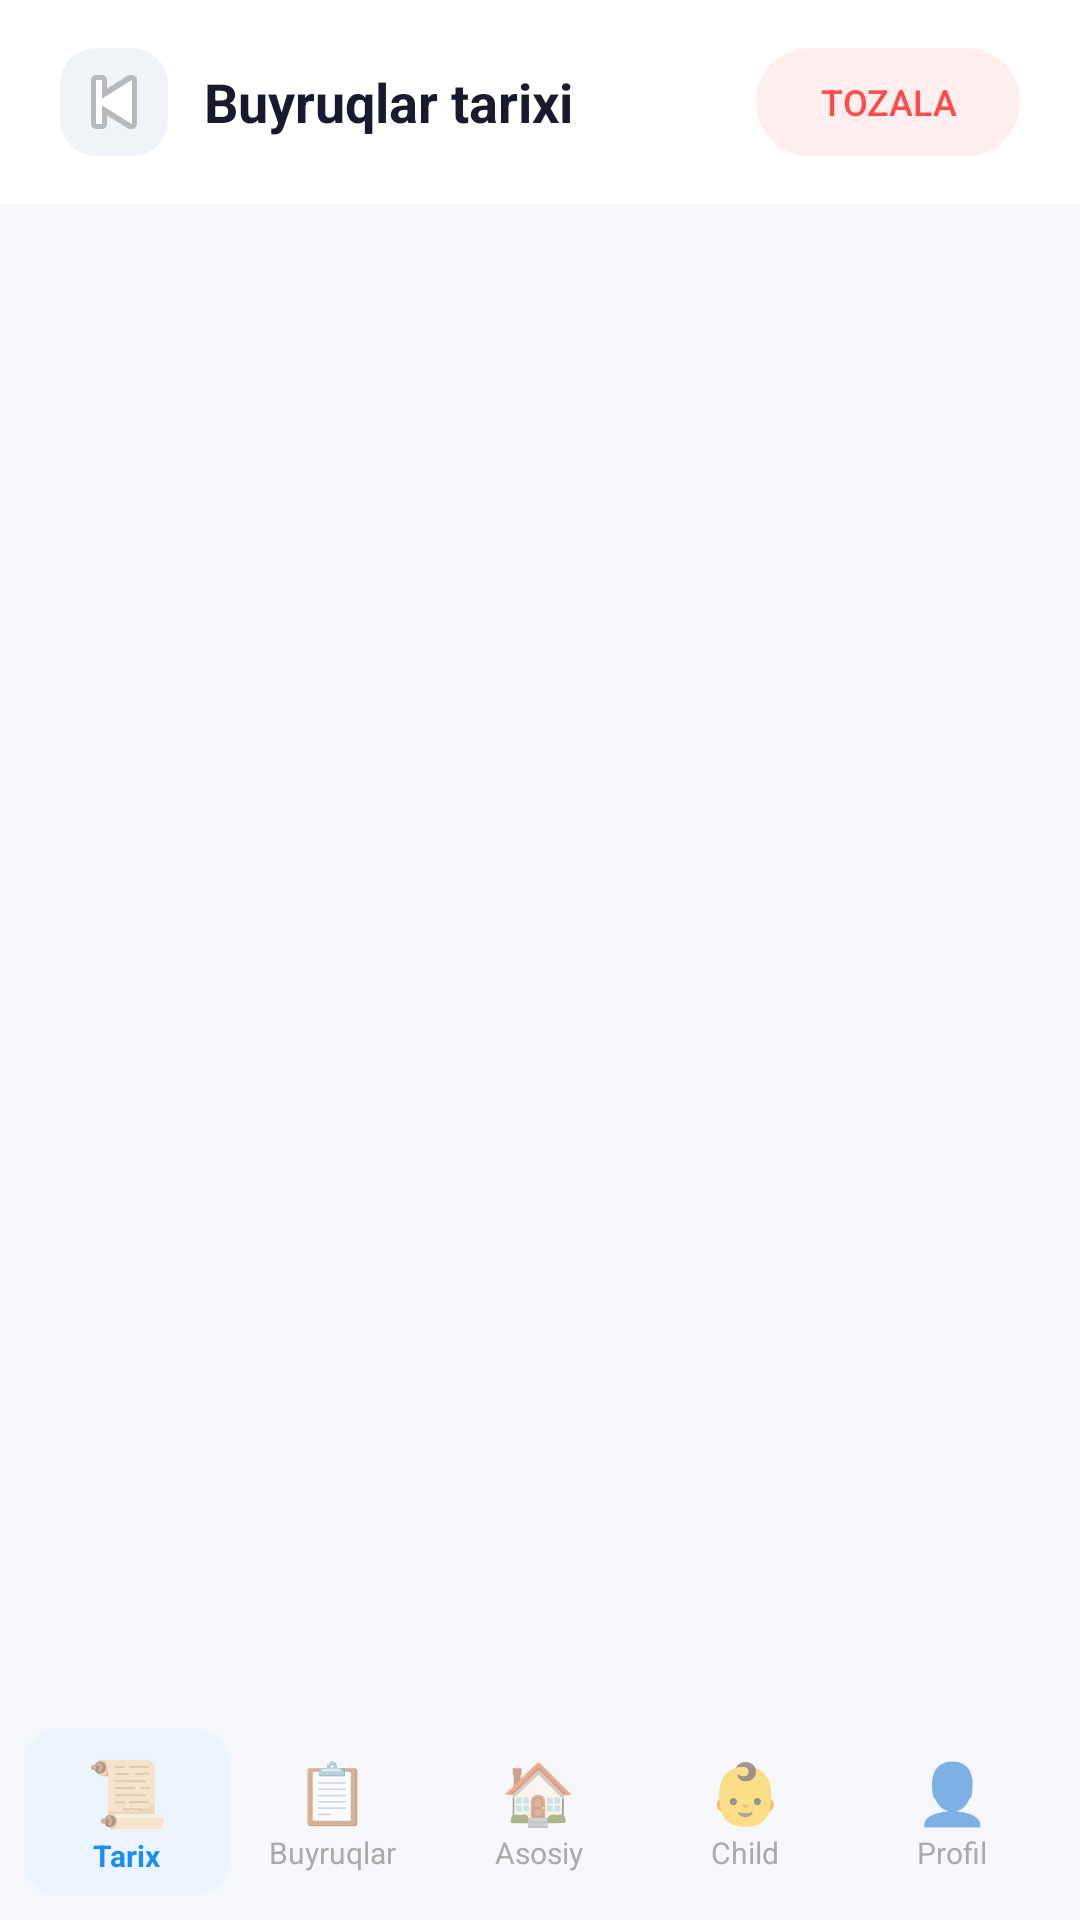

Screen size 1080×1920. Icon name, then its center in pixels as [x,y]:
previous: [114,102]
